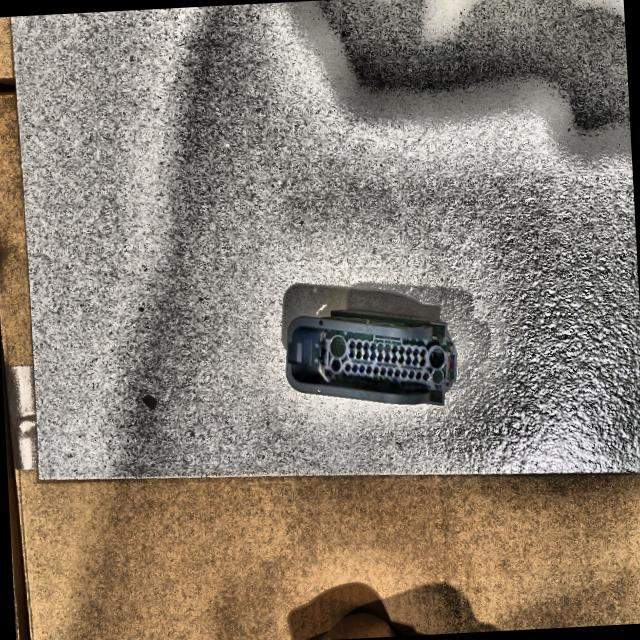P38: (286, 309, 456, 404)
